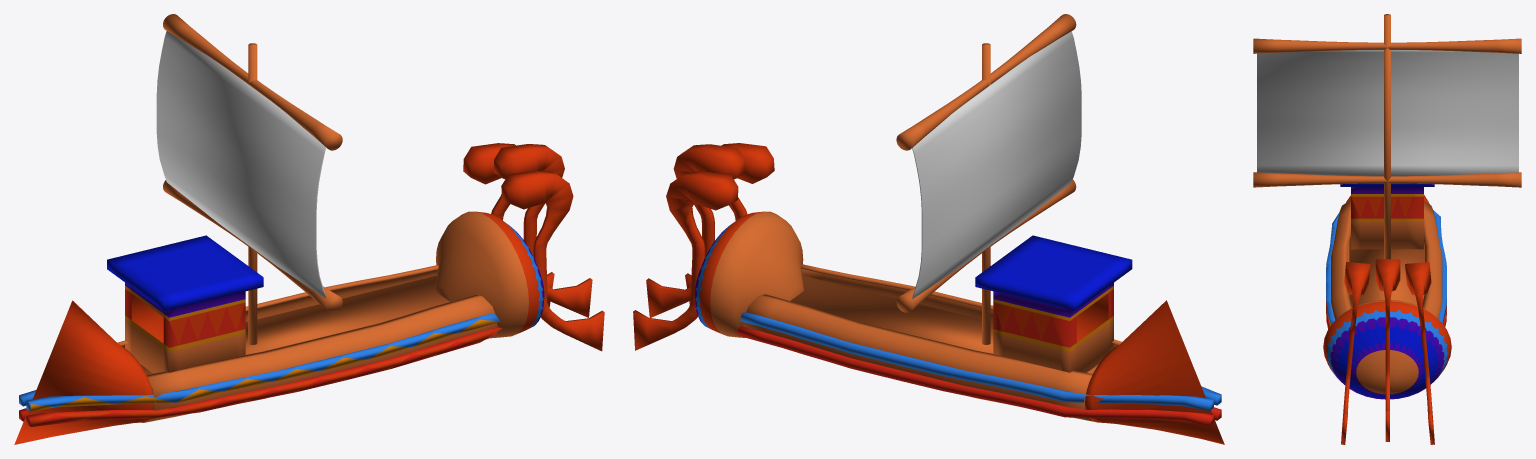
File: trirreme-decoreted.fbx
3 renders of one model, left to right at view 1: azimuth 30°, elevation 25°; view 2: azimuth 150°, elevation 25°; view 3: azimuth 270°, elevation 25°, orthographic. The views are drawn at different scales.
Parts seen in each view (by area): view 1: Cylinder.001; view 2: Cylinder.001; view 3: Cylinder.001.
Part boxes in pixels (x1=…): Cylinder.001: x1=14, y1=14, x2=604, y2=444; Cylinder.001: x1=633, y1=14, x2=1224, y2=444; Cylinder.001: x1=1253, y1=14, x2=1521, y2=444.
Bounding box in the file's own units: 1509 × 911 × 738.
